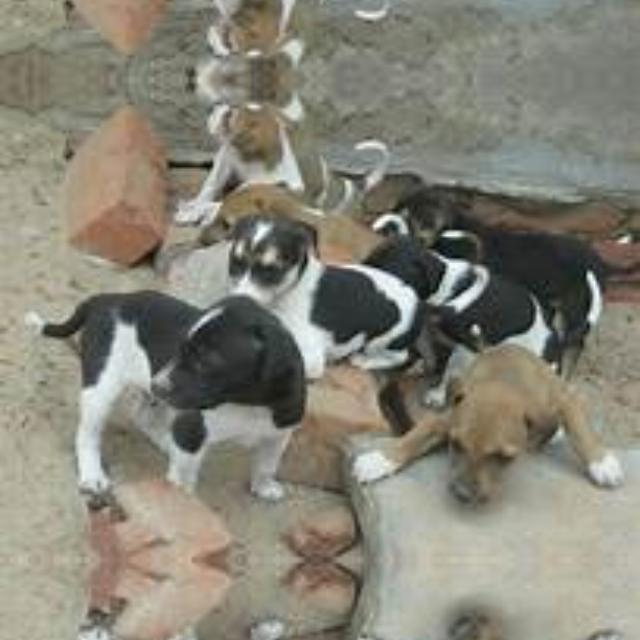dog: (63, 288, 314, 484), (388, 332, 606, 508), (229, 207, 379, 333), (387, 611, 606, 640), (63, 636, 314, 640)
